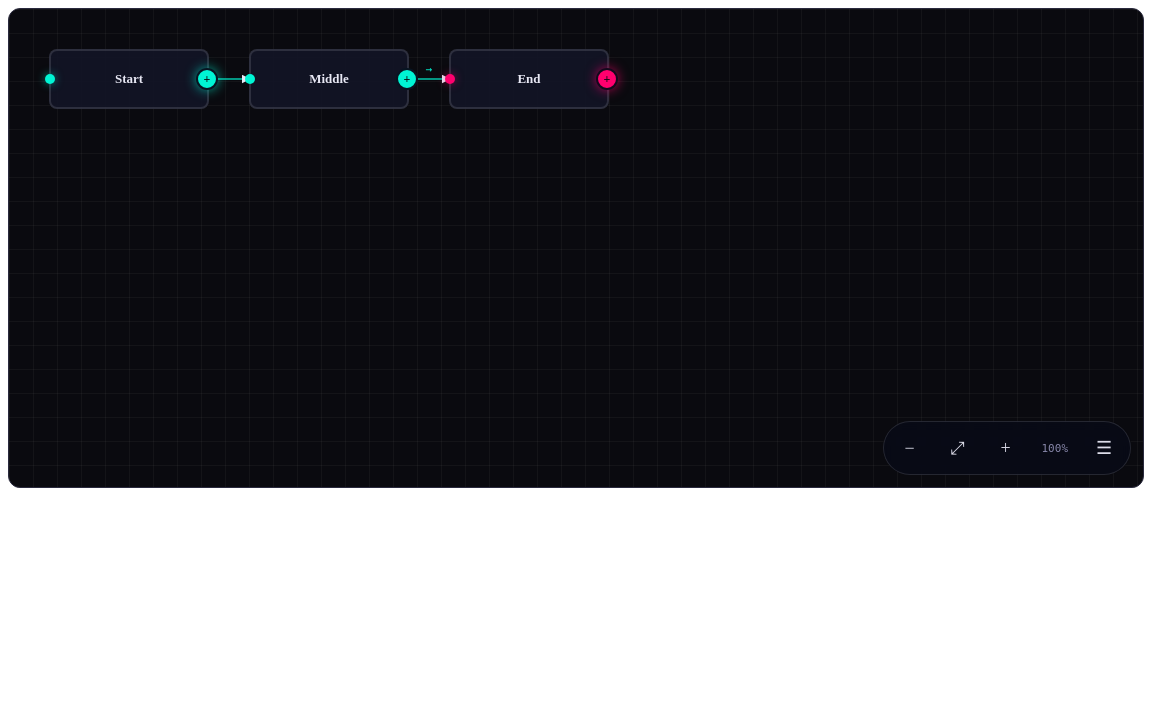
TkxFlowChart inline rename › double-click a node enters rename mode
The image size is (1152, 720).
Double-click the button with test id "flow-node-n1" at {"x": 129, "y": 79}, box [49,49,209,109]
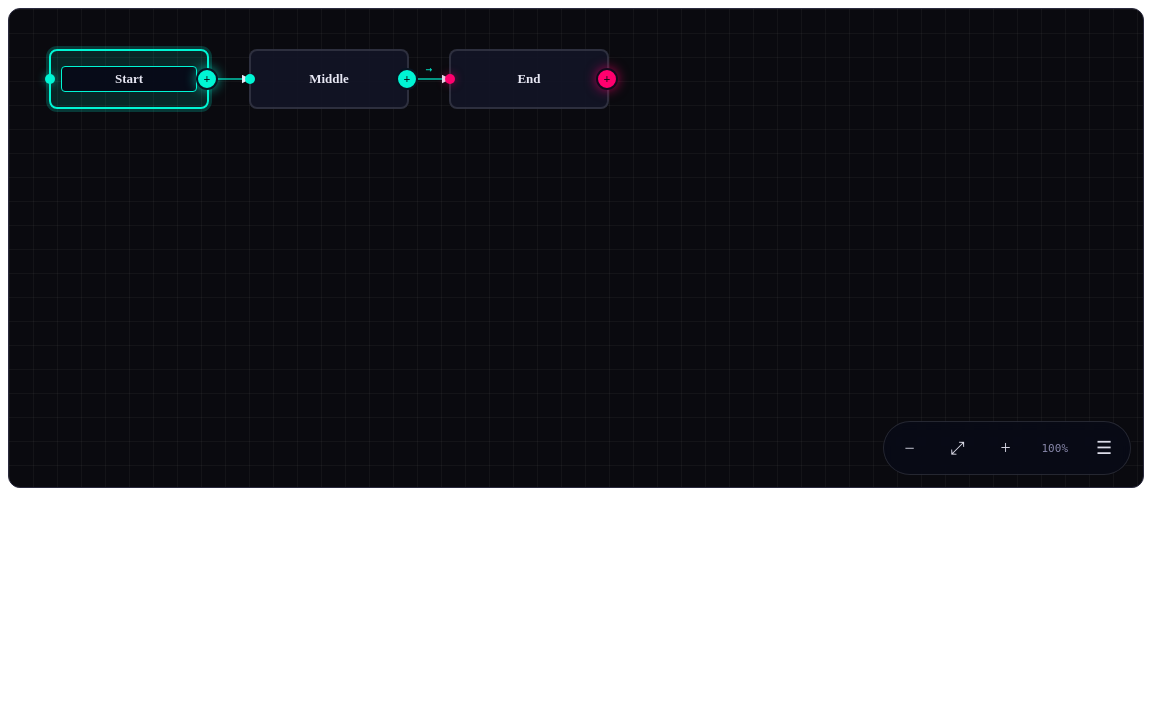
Expected: the field with test id "flow-node-rename-n1" is shown, [61,66,197,92]
